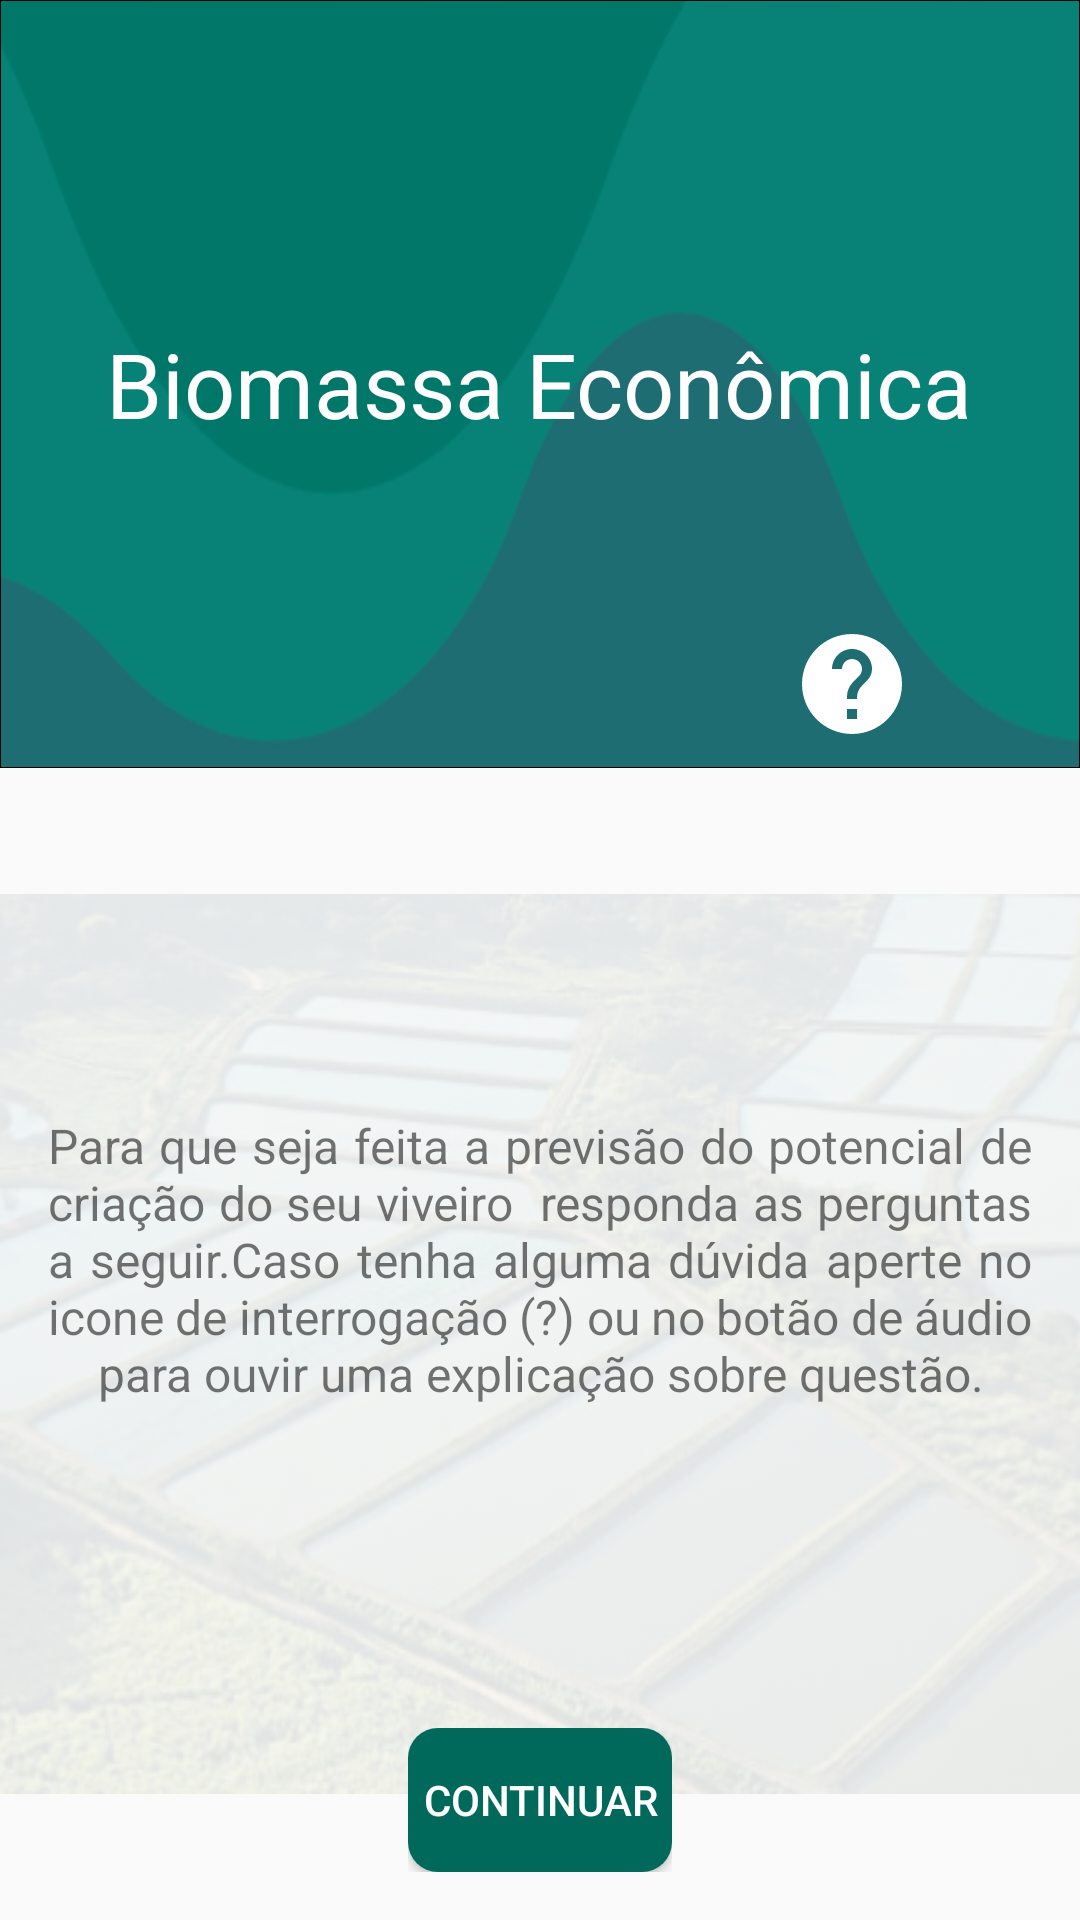

Screen size 1080px×1920px. Icon name, then its center in pixels as [x,y]:
help: [852,684]
